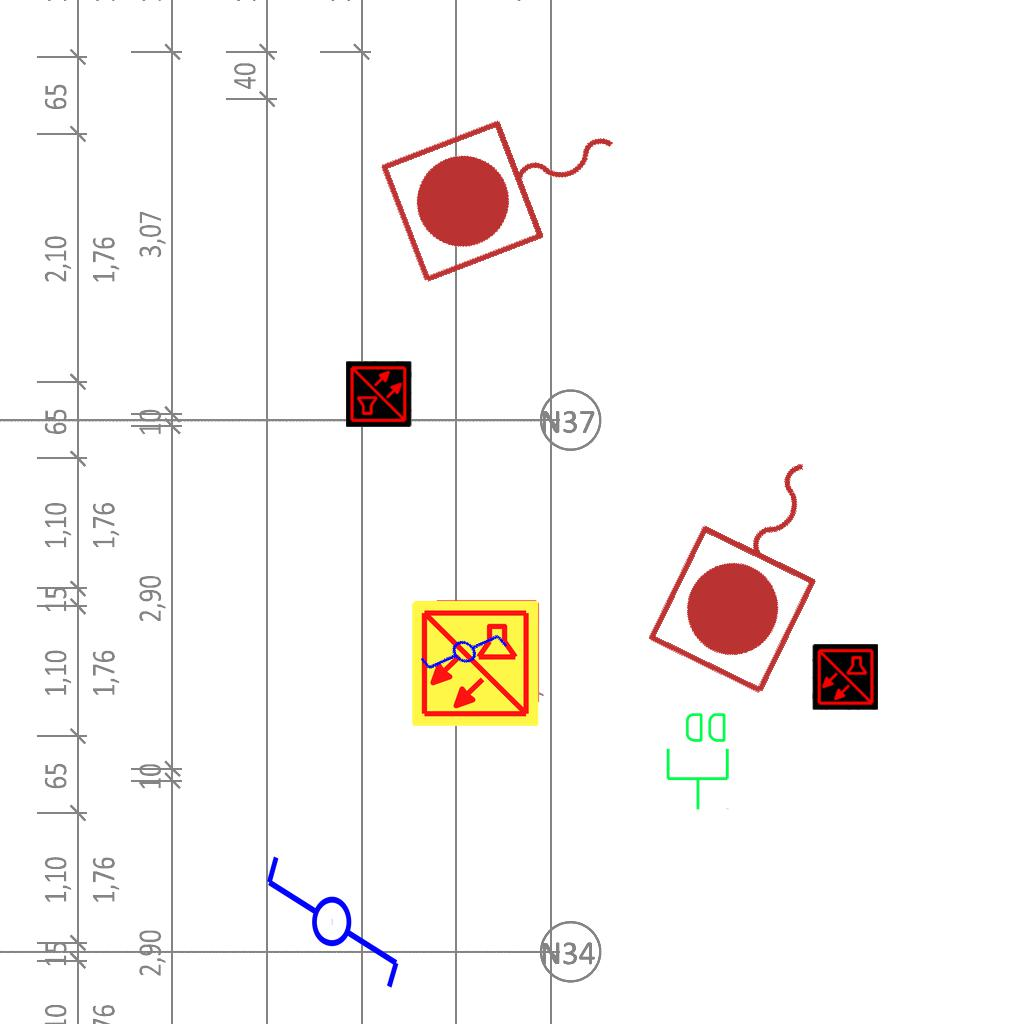Datenanschluss_zweifach: (664, 709, 733, 812)
OKW_Multisensormelder_(Kombination_optischer_Rauch-Kahlenmonoxid_Waerme-Melder): (409, 597, 541, 729), (346, 361, 412, 427), (812, 644, 878, 710)
Wechselschalter: (262, 835, 406, 992), (414, 603, 520, 707)
Zugtaster: (637, 423, 875, 707), (370, 74, 650, 296)
